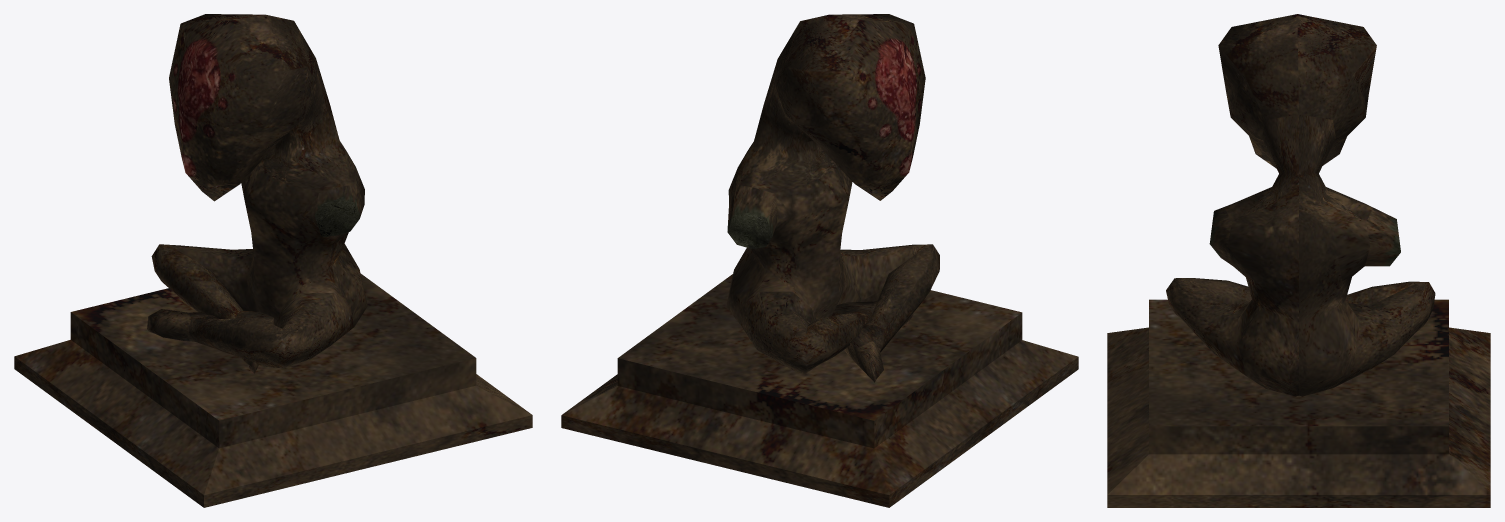
The model's file is items_artefact_statue.dae.
3 views of the same model, side by side, from view 1: azimuth 30°, elevation 25°; view 2: azimuth 150°, elevation 25°; view 3: azimuth 270°, elevation 25° (orthographic).
Parts seen in each view (by area): view 1: polySurface1; view 2: polySurface1; view 3: polySurface1.
Part boxes in pixels (x1,y1,x2,y2): polySurface1: (14,14,532,507); polySurface1: (561,14,1078,507); polySurface1: (1107,14,1490,507).
Size of what is drawn, in the model's own units: 0.3049 by 0.3445 by 0.3049.
